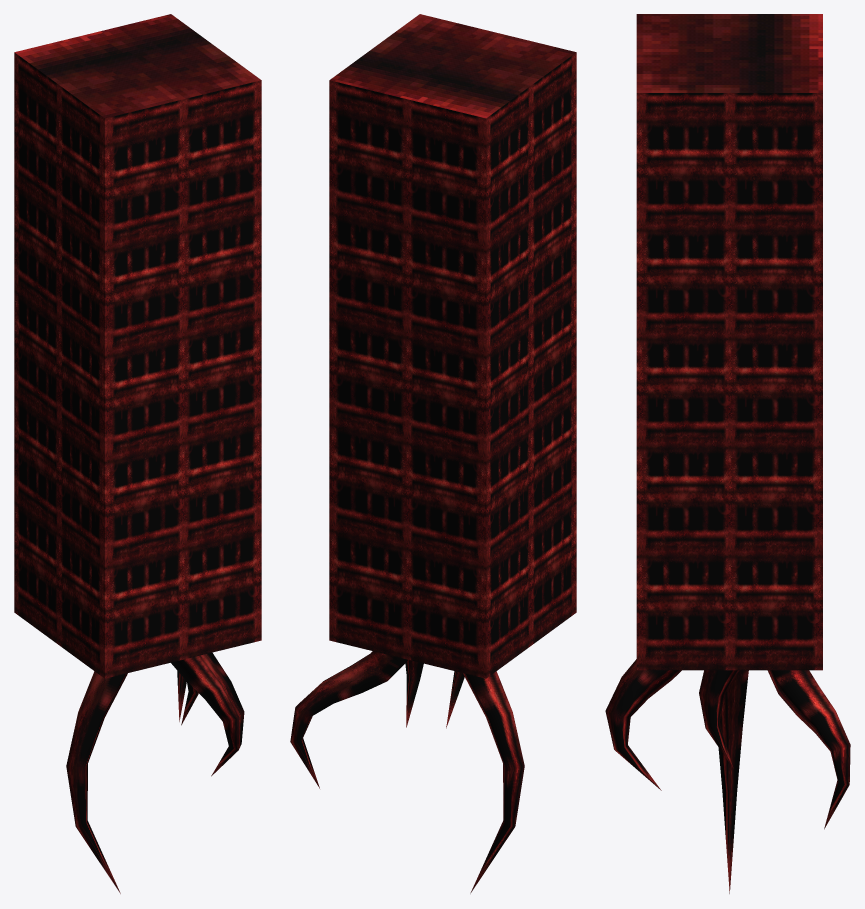
Rendered from BuildingRoot.glb.
3 renders of one model, left to right at view 1: azimuth 30°, elevation 25°; view 2: azimuth 150°, elevation 25°; view 3: azimuth 270°, elevation 25°, orthographic. The views are drawn at different scales.
Parts seen in each view (by area): view 1: Cube, NurbsPath; view 2: Cube, NurbsPath; view 3: Cube, NurbsPath.
Part boxes in pixels (left/top/right/bottom): Cube: left=14, top=14, right=261, bottom=678; NurbsPath: left=66, top=652, right=244, bottom=893; Cube: left=329, top=14, right=576, bottom=678; NurbsPath: left=290, top=651, right=524, bottom=893; Cube: left=636, top=14, right=822, bottom=670; NurbsPath: left=605, top=659, right=850, bottom=893.
Bounding box in the file's own units: 2.36 × 10.05 × 2.63.
1 material, 1 textured.
